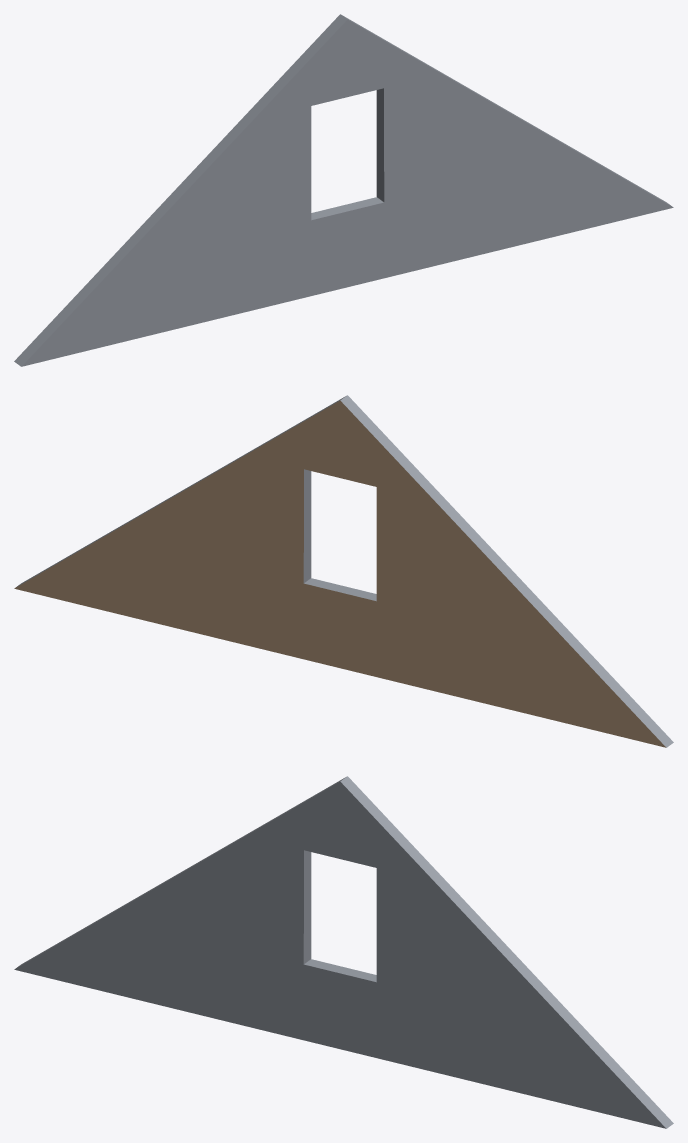
The model's file is Wall2_C6_19.fbx.
3 renders of one model, top to bottom at view 1: azimuth 30°, elevation 25°; view 2: azimuth 150°, elevation 25°; view 3: azimuth 330°, elevation 25°, orthographic.
Parts seen in each view (by area): view 1: Wall2_C6_19; view 2: Wall2_C6_19; view 3: Wall2_C6_19.
Boxes of the visible parts, x1,y1,x2,y2 form: Wall2_C6_19: [14, 14, 673, 366]; Wall2_C6_19: [14, 395, 673, 747]; Wall2_C6_19: [14, 776, 673, 1128].
Size of the model in its own units: 765 by 300 by 15.
